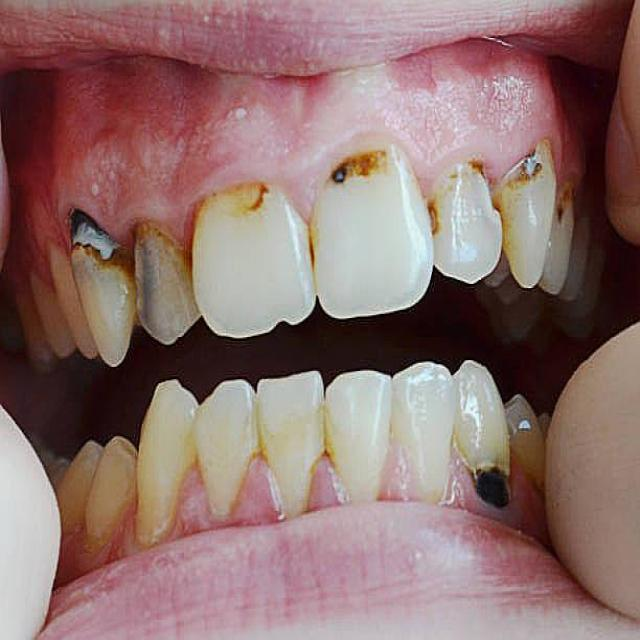caries: (67, 196, 130, 276), (465, 449, 518, 515), (320, 140, 374, 200), (467, 152, 509, 224), (506, 138, 556, 195), (233, 174, 280, 219), (417, 187, 454, 242)
